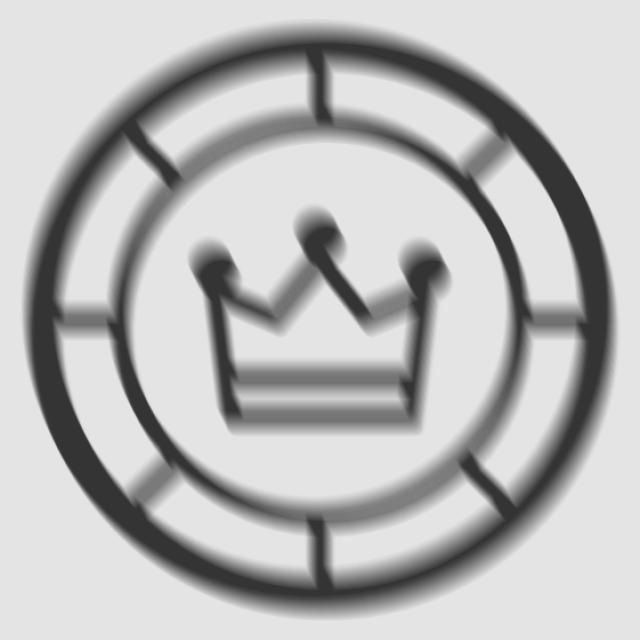coin: (14, 16, 628, 633)
